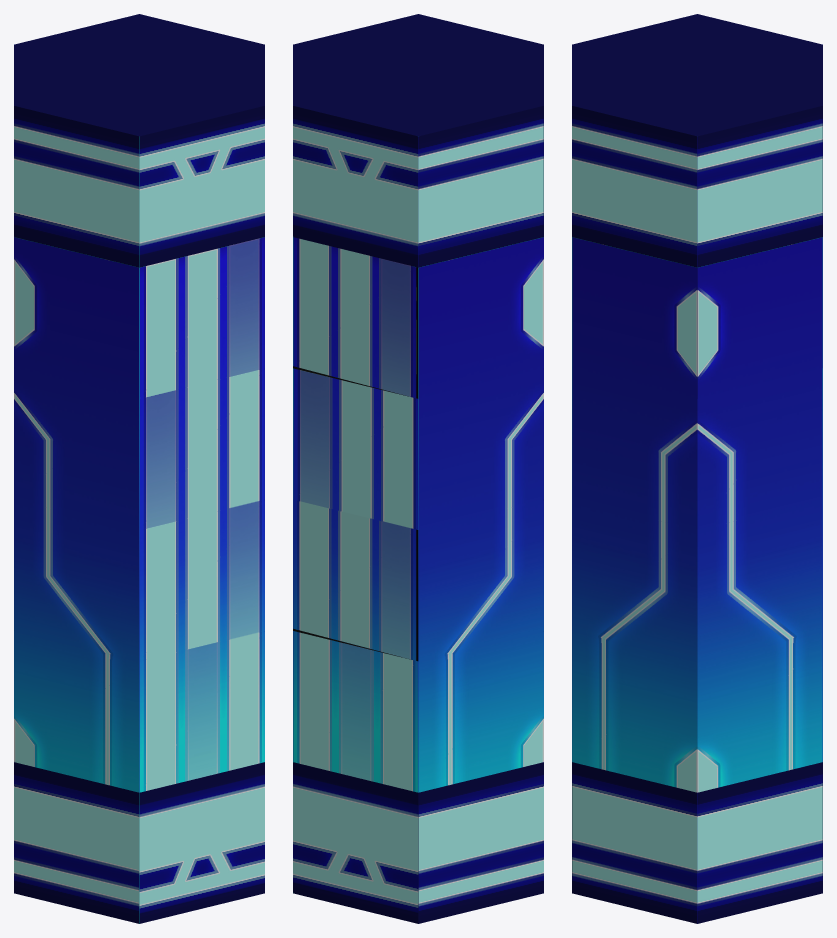
The model's file is PLAG_SimpleBldg_06.obj.
The picture shows the model from 3 angles, left to right: view 1: azimuth 30°, elevation 25°; view 2: azimuth 150°, elevation 25°; view 3: azimuth 270°, elevation 25°; orthographic projection.
Visible parts, largest first — view 1: PLAG_SimpleBldg_06; view 2: PLAG_SimpleBldg_06; view 3: PLAG_SimpleBldg_06.
Part boxes in pixels (x1,y1,x2,y2): PLAG_SimpleBldg_06: (14,14,264,923); PLAG_SimpleBldg_06: (293,14,543,923); PLAG_SimpleBldg_06: (572,14,822,923).
Bounding box in the file's own units: 200 × 600 × 173.
